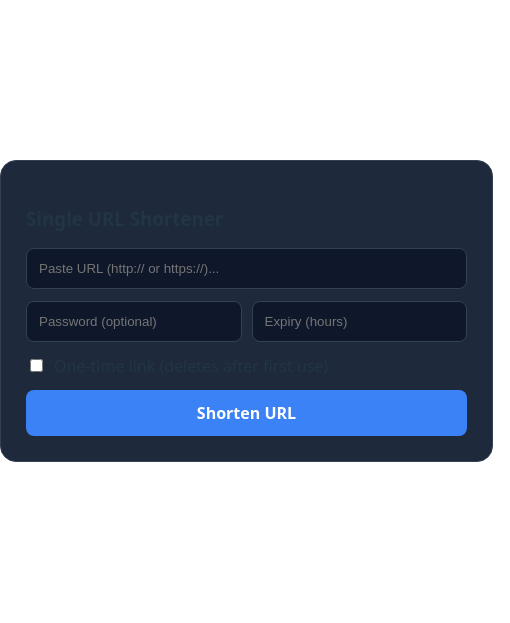
Test case: UrlShortener Component › should display shortened URL result
Type "https://example.com" into the field with placeholder "Paste URL (http:// or https://)..." at (246, 268), box [26,248,467,289]
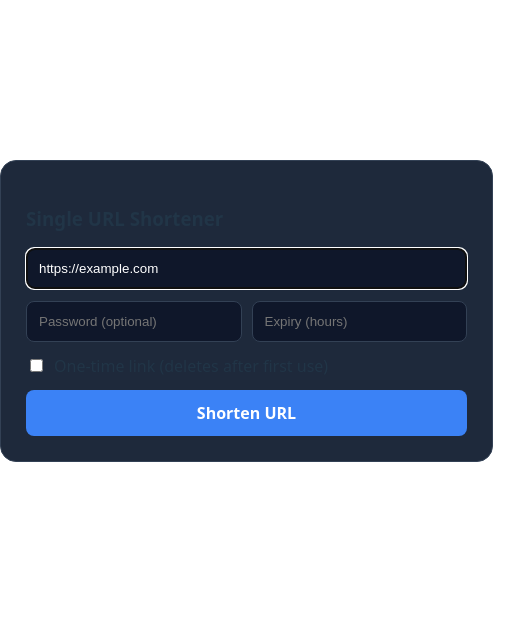
Click the button "Shorten URL" at (246, 413), box [26,390,467,436]
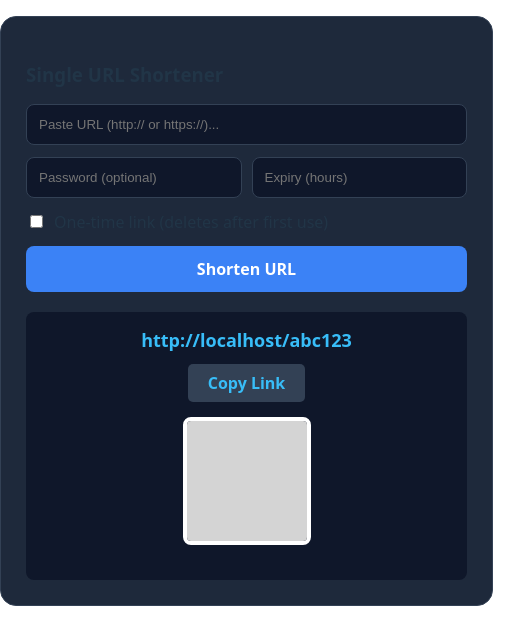
Expected: the link "http://localhost/abc123" is shown, [141,328,352,352]
Expected: the button "Copy Link" is shown, [188,364,305,402]
